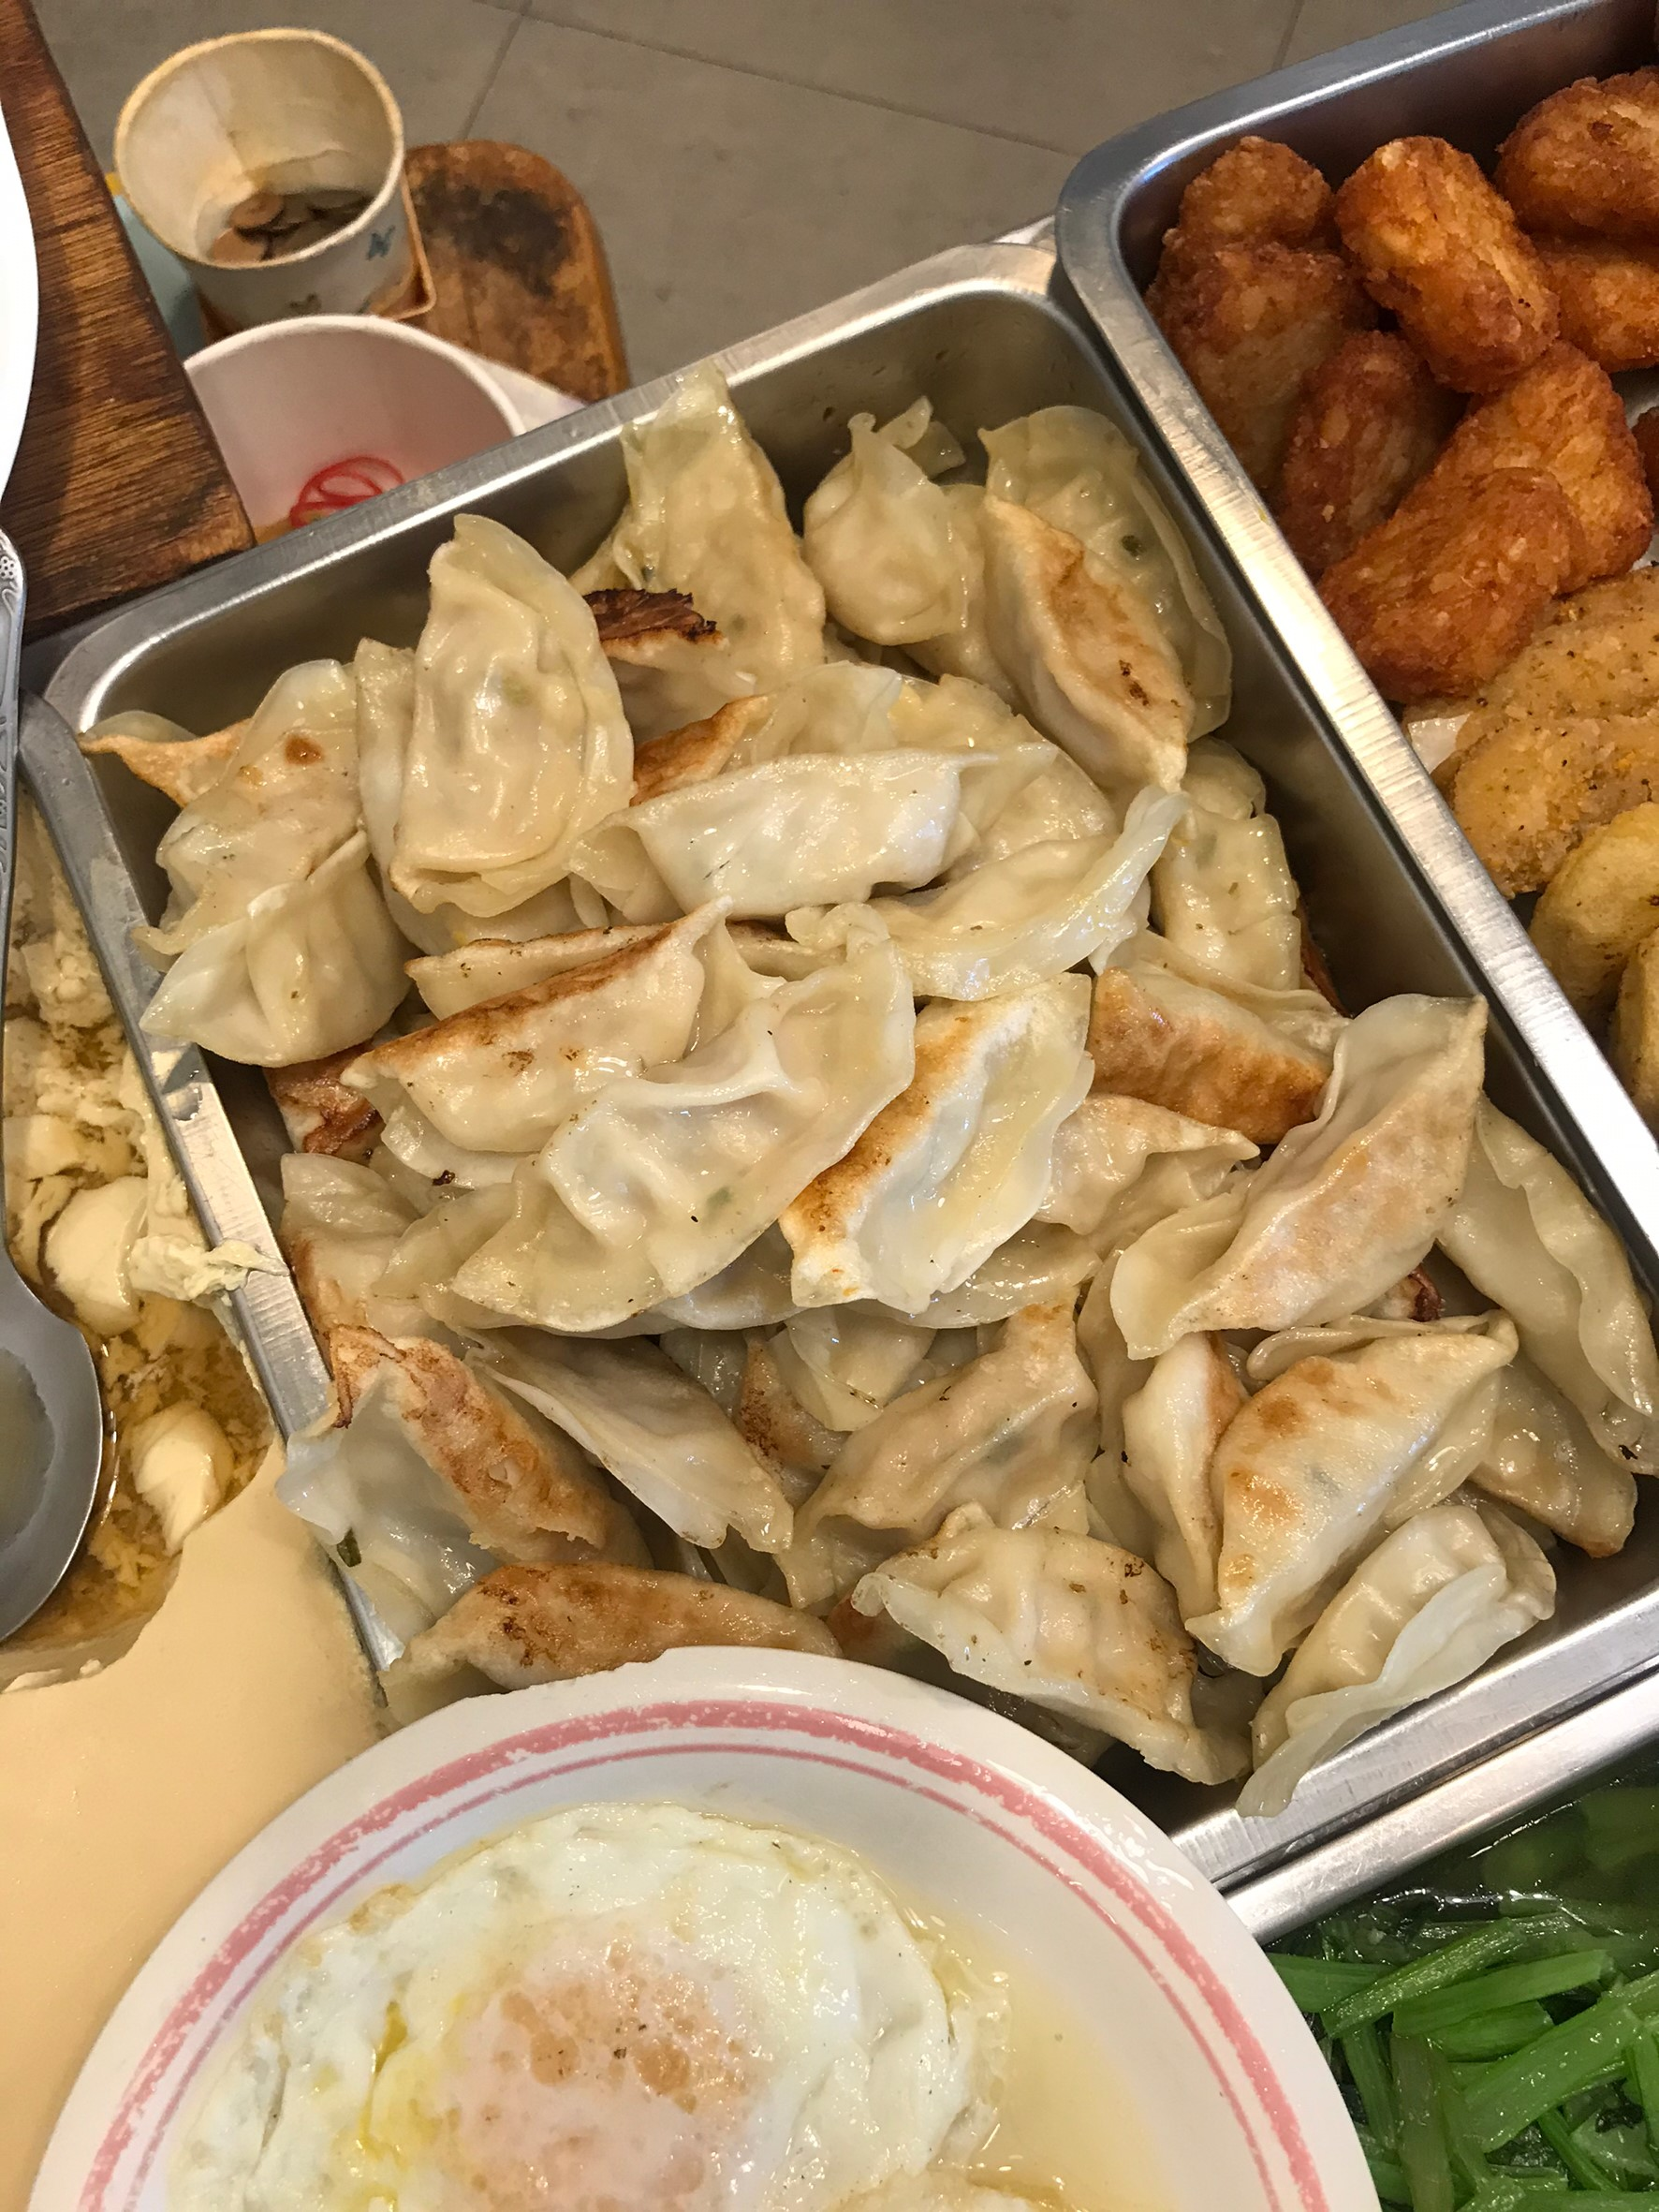fried_dumplings: (357, 584, 1276, 1673)
fried_eggs: (185, 1801, 976, 2207)
triangle_hash_brown: (1164, 159, 1659, 547)
